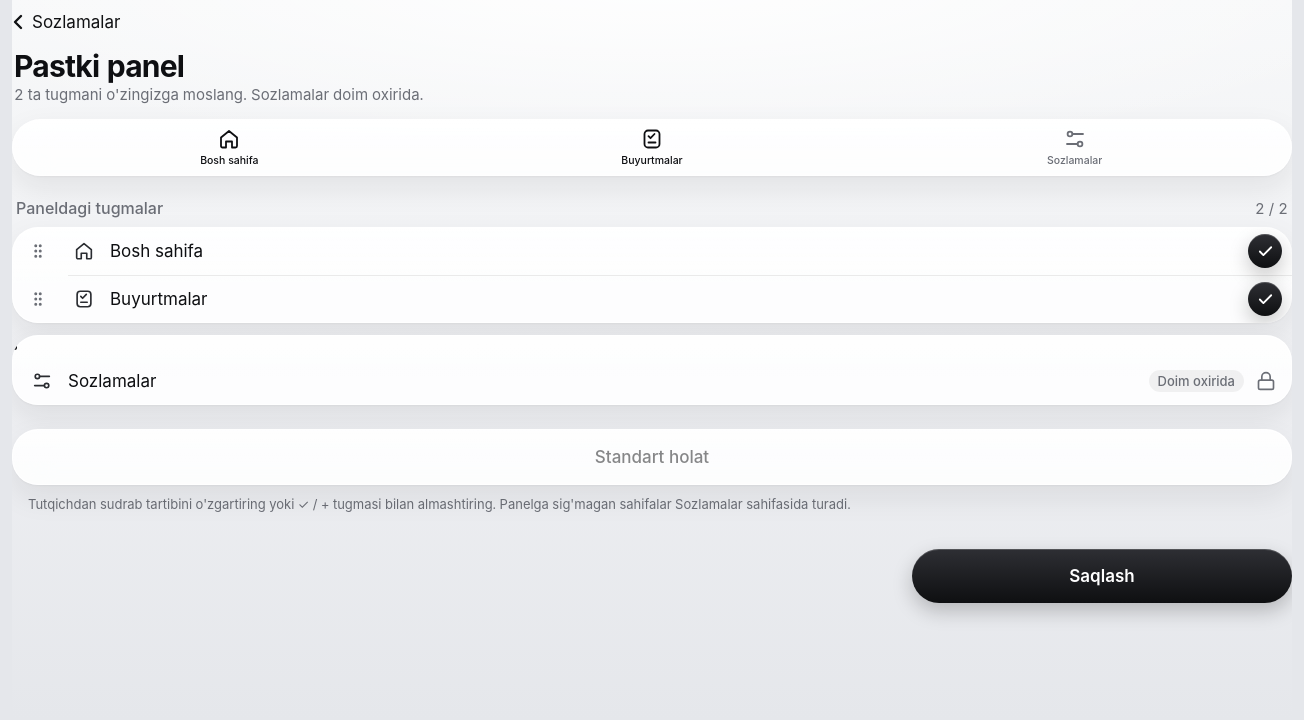
Test: with no page past the bar to take its place a page stays on it, and the editor says so
The image size is (1304, 720).
Check: the text "2 ta tugmani o'zingizga moslang. Sozlamalar doim oxirida." is shown, box [14,85,424,105]
Check: the text "2 / 2" is shown, box [1255,199,1288,219]
Click the button named "Paneldan olib tashlash: Buyurtmalar" at (1265, 299), box [1248,282,1282,316]
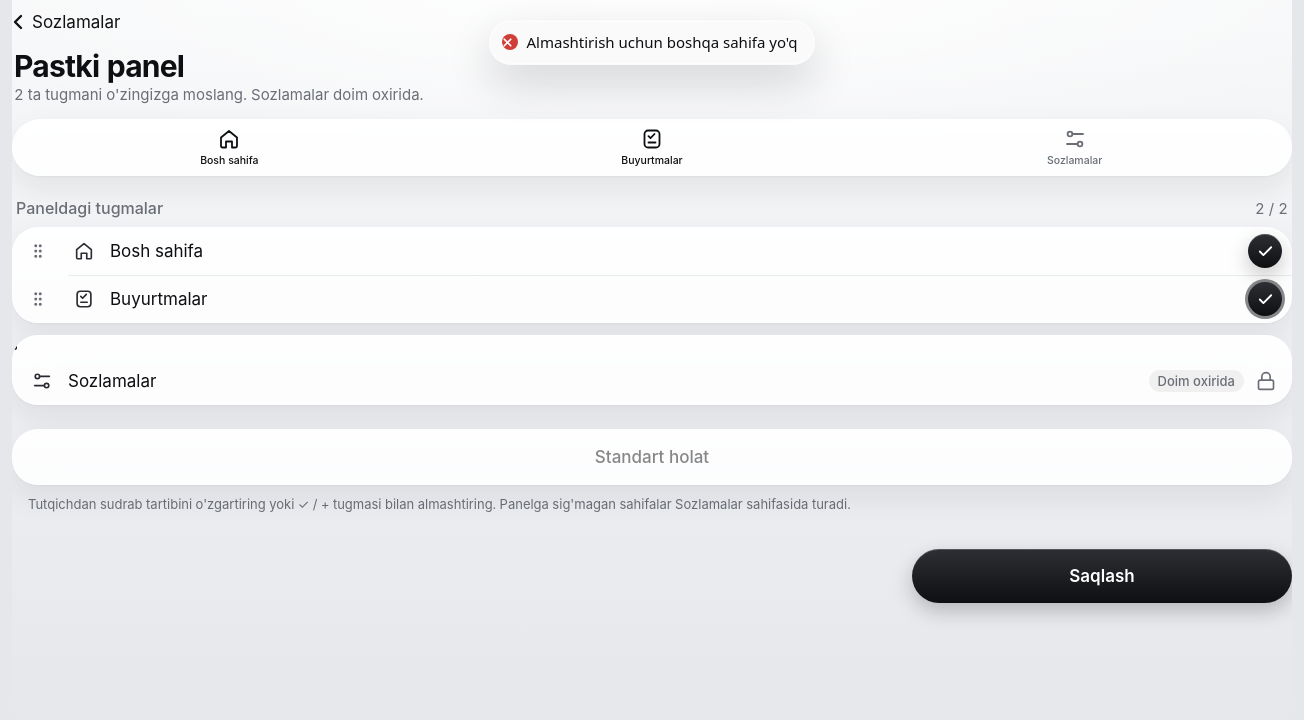
Check: the text "Almashtirish uchun boshqa sahifa yo'q" is shown, box [526,31,798,54]
